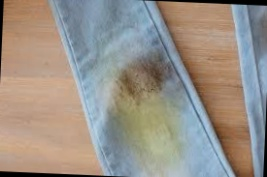earth: (114, 67, 178, 164)
